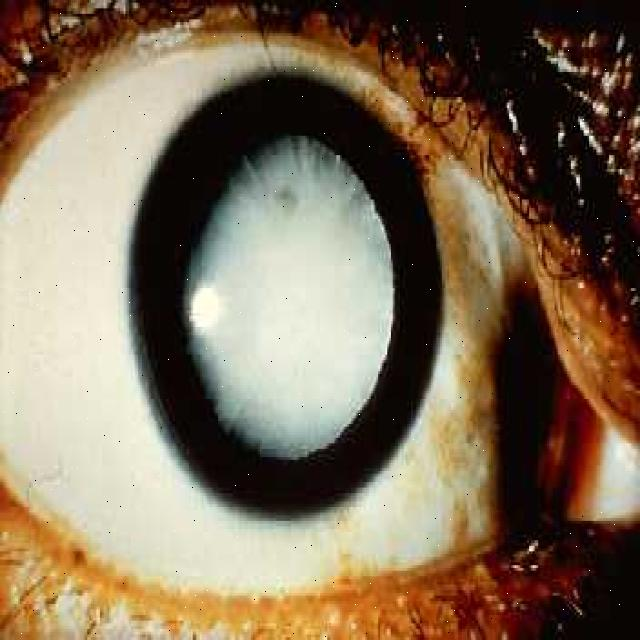Cataract: (129, 67, 444, 521)
